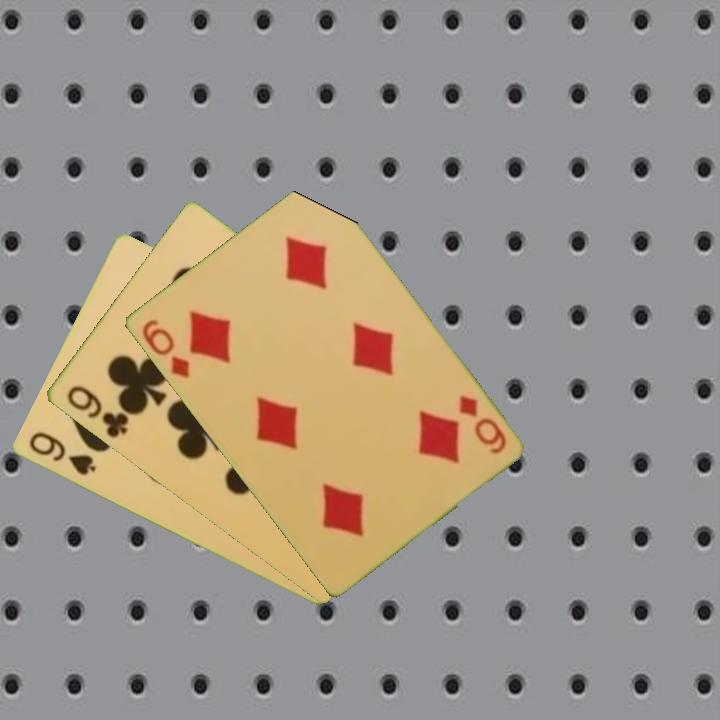6d: (454, 391, 509, 457), (138, 315, 192, 382)
9c: (62, 382, 132, 441)
9s: (25, 428, 99, 479)
